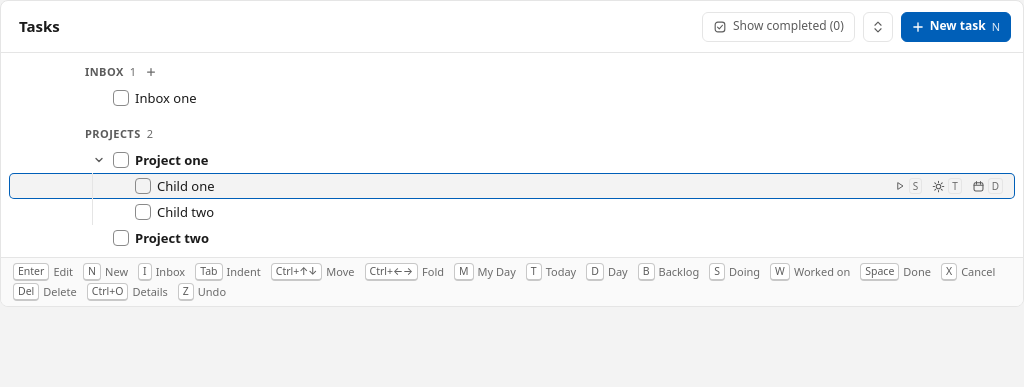
Test: drafts › typing a list: N, "a", Enter, "b", Enter, Enter creates two tasks in order and ends with "b" selected
Expected: the text "Child one" is shown, [157,177,215,195]
Press n
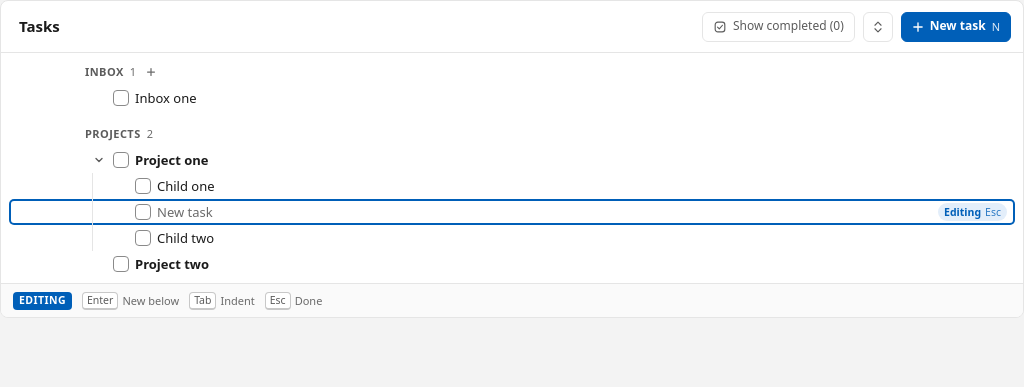
Type "a" into the field.
click(349, 212); type("a")  # box [157,202,542,222]
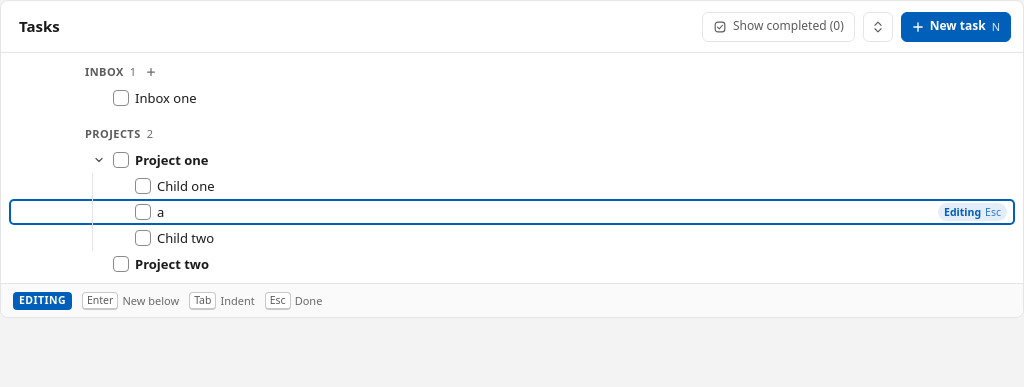
Press Enter in the field, box [157,202,542,222]
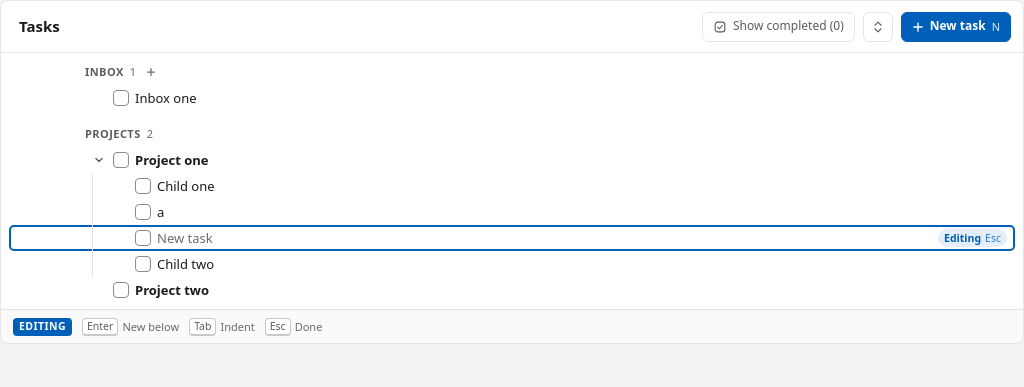
Type "b" into the field.
click(349, 238); type("b")  # box [157,228,542,248]
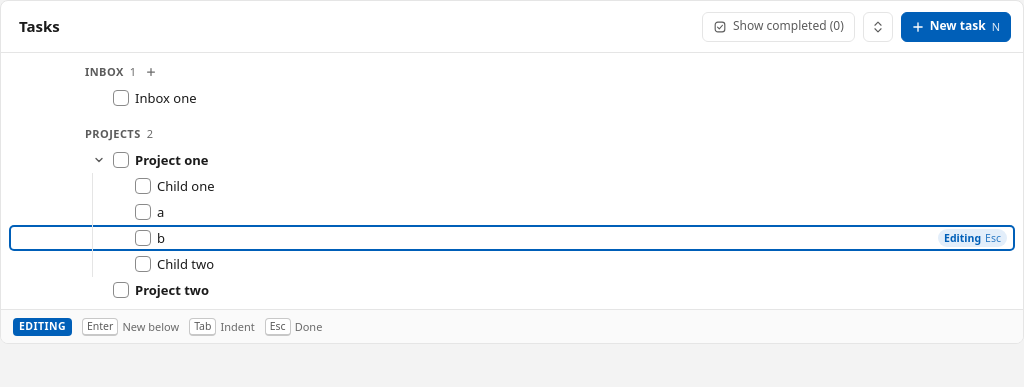
Press Enter in the field, box [157,228,542,248]
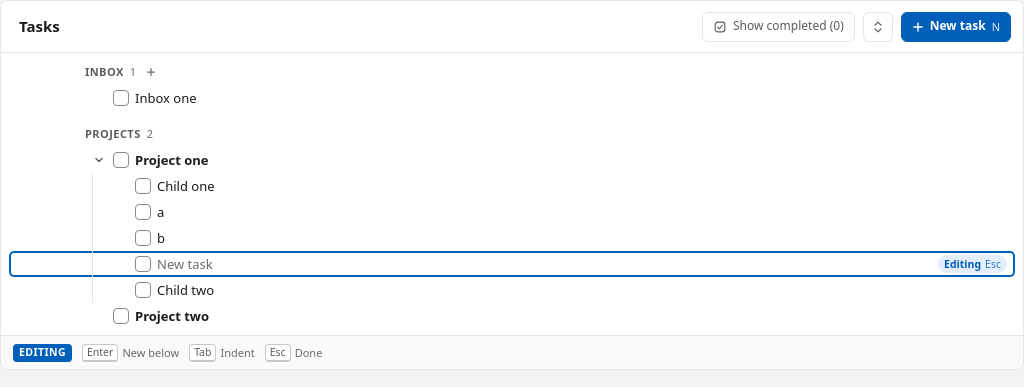
Result: the field is empty
Press Enter in the field, box [157,254,542,274]
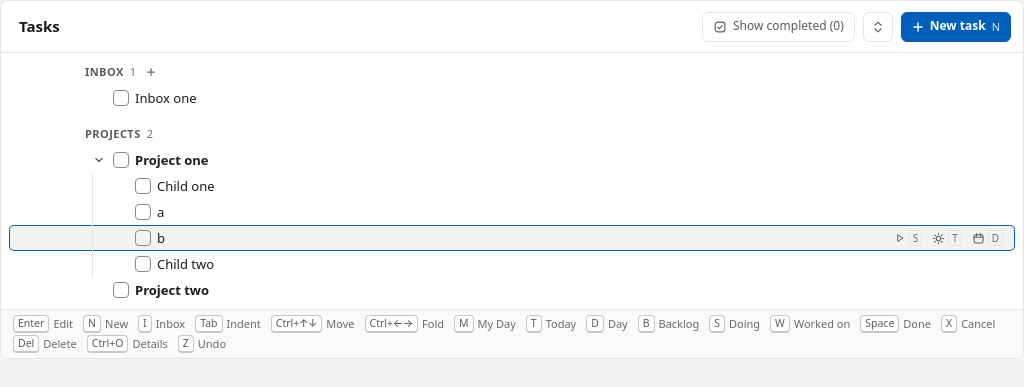
Result: the field is gone
